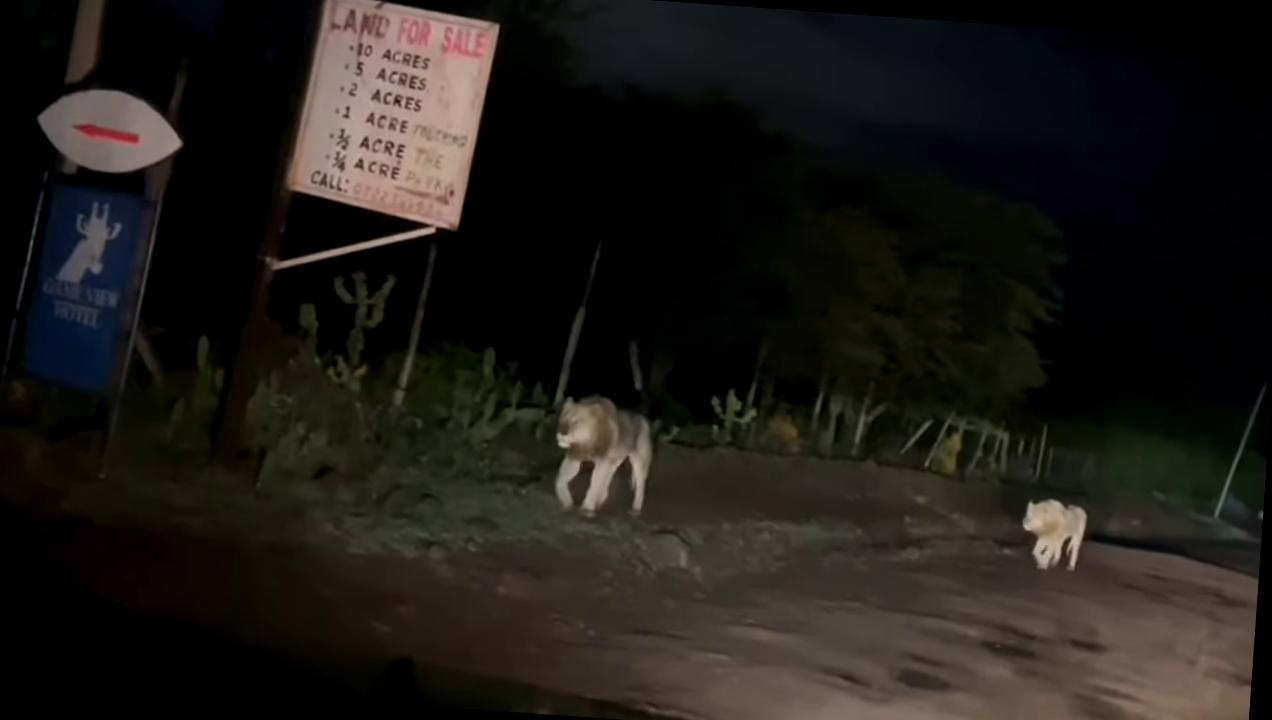lions: (480, 346, 1099, 594), (482, 360, 670, 536), (990, 478, 1106, 586)
